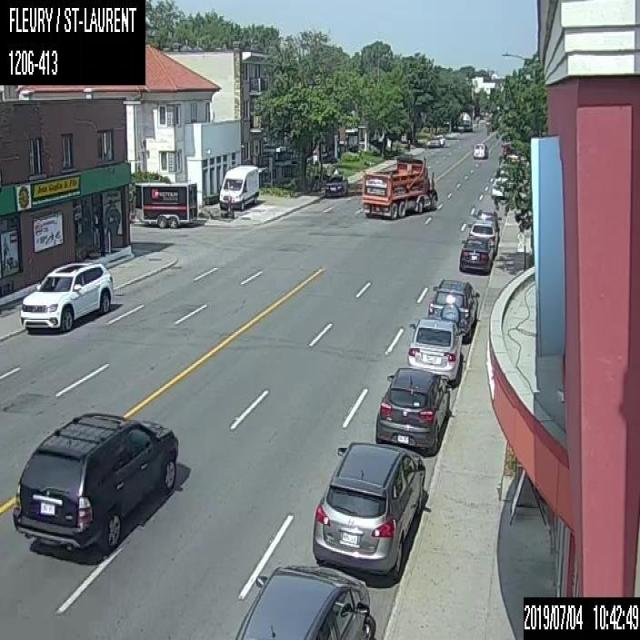vehicle: (12, 410, 179, 550), (312, 441, 425, 584), (233, 564, 374, 639), (19, 258, 114, 330), (375, 367, 449, 453), (362, 156, 438, 219), (407, 316, 464, 384), (427, 276, 478, 341), (130, 181, 197, 227), (219, 165, 259, 209), (458, 236, 494, 273), (467, 221, 497, 252), (322, 173, 347, 195), (490, 174, 511, 198), (472, 209, 501, 226), (472, 141, 488, 159), (426, 136, 440, 148)
